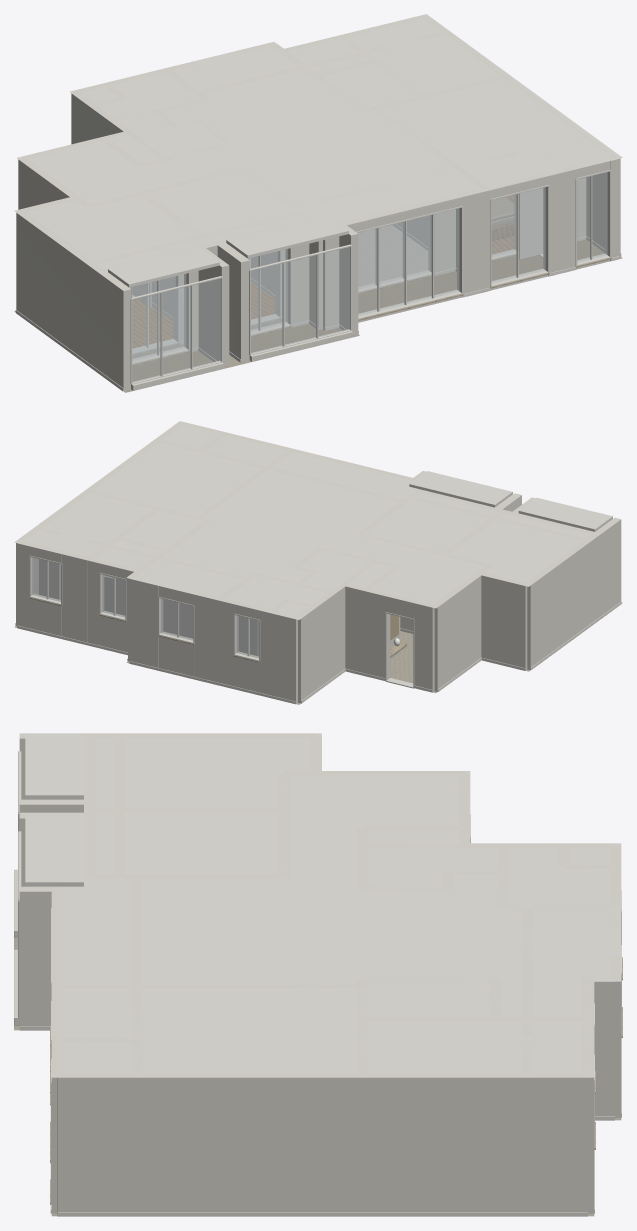
The model's file is acro112a-basic.glb.
3 renders of one model, top to bottom at view 1: azimuth 30°, elevation 25°; view 2: azimuth 150°, elevation 25°; view 3: azimuth 270°, elevation 25°, orthographic. The views are drawn at different scales.
Visible parts, largest first — view 1: Indoor ceiling, West bedroom outer wall pier, Living south facade glazing, Center reference exterior balcony glass, West reference exterior balcony glass, Master south facade glazing, Living balcony threshold glazing, West bedroom outer glazing glazing, Open balcony shaft west pier, Master south facade pier.001, Living south facade pier.001, East facade pier (+36 smaller); view 2: Indoor ceiling, West bedroom outer wall pier, Entry west wall pier, West notch north pier, Entry north wall pier.001, Service west wall pier, North service facade pier, North kitchen facade pier.001, North dressing facade pier, North kitchen facade pier, Center reference balcony ceiling, Entry north wall pier (+27 smaller); view 3: Indoor ceiling, East facade pier, Open balcony east return pier, Center reference balcony ceiling, West reference balcony ceiling, North east step pier, East facade skirting.001, West bedroom outer wall pier, Master living divider pier.001, North kitchen facade pier.001, Bedroom center east wall pier, Bedroom dividing wall pier (+11 smaller).
Part boxes in pixels (x1,y1,x2,y2): Indoor ceiling: (14,14,622,273); West bedroom outer wall pier: (16,210,130,391); Living south facade glazing: (358,208,459,315); Center reference exterior balcony glass: (251,247,349,353); West reference exterior balcony glass: (132,279,220,382); Master south facade glazing: (492,187,545,283); Living balcony threshold glazing: (358,216,430,288); West bedroom outer glazing glazing: (132,274,185,360); Open balcony shaft west pier: (198,247,229,366); Master south facade pier.001: (548,166,576,272); Living south facade pier.001: (458,188,488,293); East facade pier: (422,16,620,256); Indoor ceiling: (14,421,590,619); West bedroom outer wall pier: (524,517,621,670); Entry west wall pier: (431,565,492,691); West notch north pier: (481,572,527,670); Entry north wall pier.001: (342,583,388,678); Service west wall pier: (295,584,346,703); North service facade pier: (259,608,297,703); North kitchen facade pier.001: (129,576,160,667); North dressing facade pier: (62,551,90,642); North kitchen facade pier: (194,592,220,682); Center reference balcony ceiling: (409,471,512,507); Entry north wall pier: (414,600,435,691); Indoor ceiling: (51,733,621,1077); East facade pier: (57,1072,587,1212); Open balcony east return pier: (19,886,57,1025); Center reference balcony ceiling: (25,814,83,886); West reference balcony ceiling: (25,734,83,799); North east step pier: (588,976,614,1116); East facade skirting.001: (57,1212,587,1216); West bedroom outer wall pier: (19,733,315,799); Master living divider pier.001: (58,984,303,989); North kitchen facade pier.001: (609,955,621,1117); Bedroom center east wall pier: (84,874,283,879); Bedroom dividing wall pier: (90,807,283,812).
Bounding box in the file's own units: 13.88 × 2.7 × 10.35.
15 materials, 6 textured.
